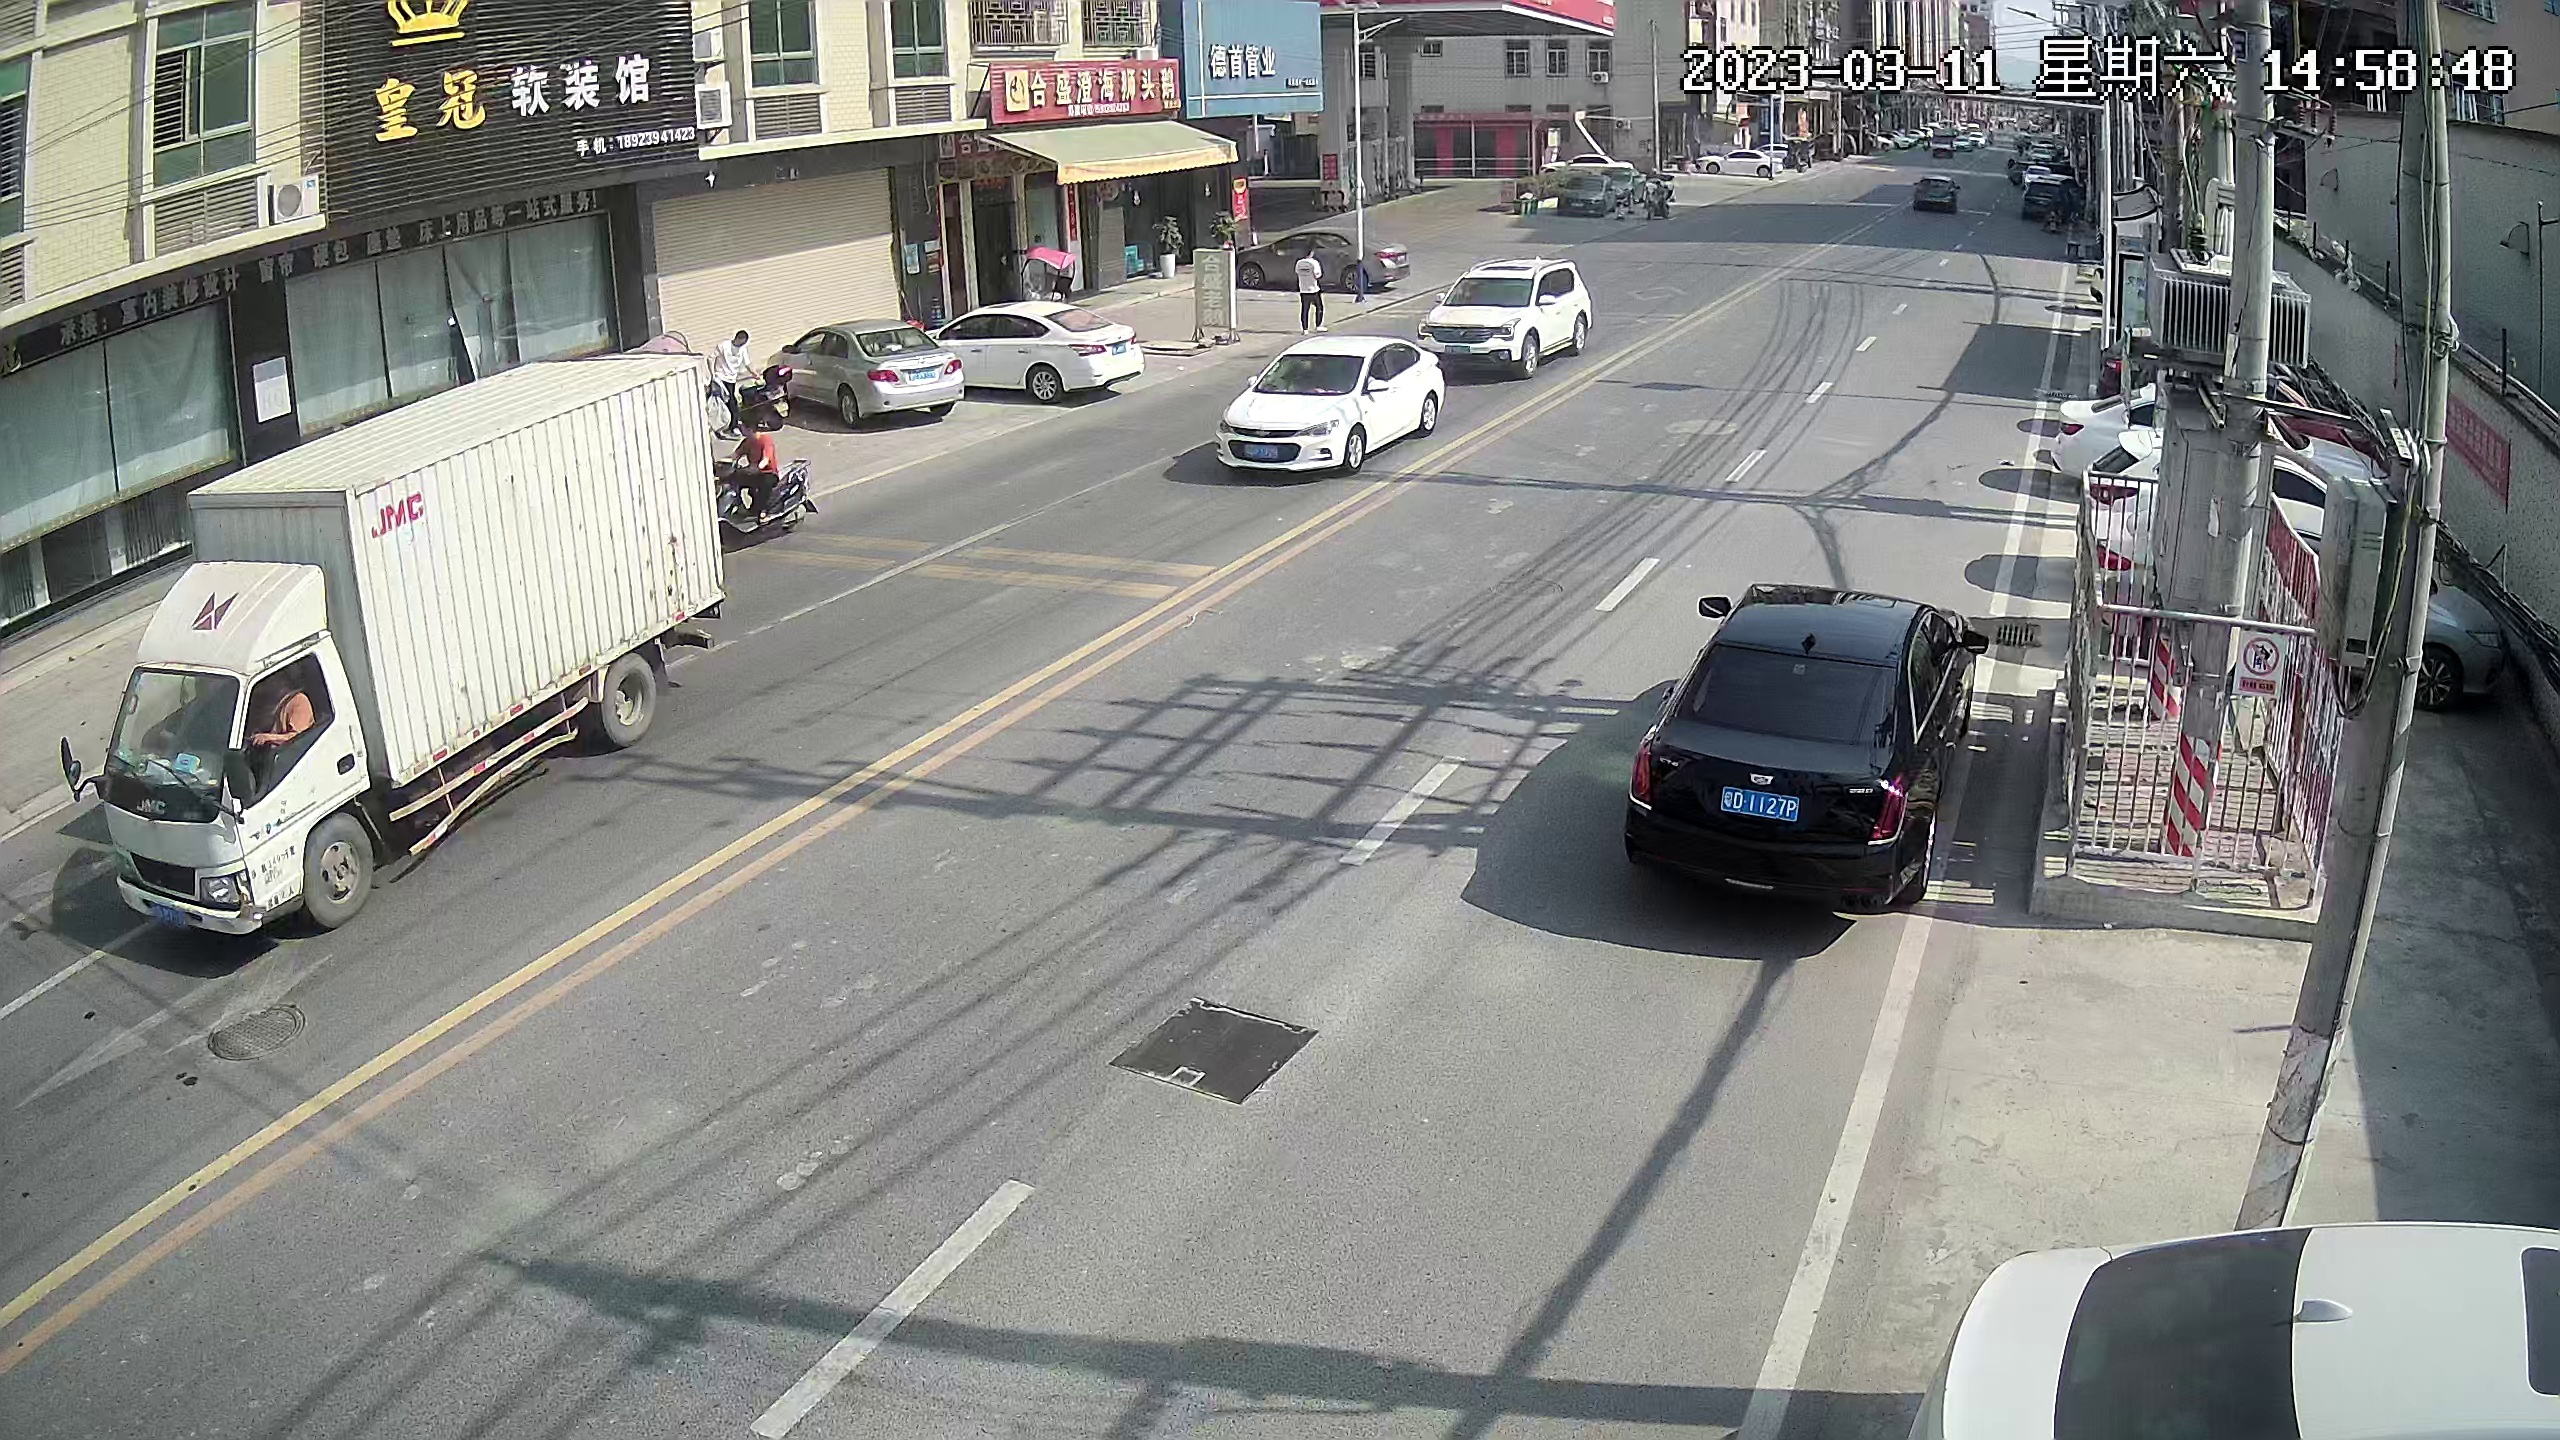motorcycle: (707, 419, 819, 538)
person: (708, 325, 754, 425), (1284, 257, 1324, 327)
sedan: (1930, 1225, 2560, 1440), (1654, 574, 1942, 915), (2093, 509, 2488, 689), (1218, 340, 1447, 475), (2107, 434, 2445, 517), (2060, 373, 2362, 463), (954, 307, 1142, 402), (789, 329, 950, 424), (1245, 232, 1414, 294), (1704, 145, 1780, 187), (2033, 169, 2067, 229), (1558, 177, 1609, 214), (1919, 165, 1955, 217)
suv: (1427, 265, 1595, 362)
truck: (87, 344, 697, 945)
